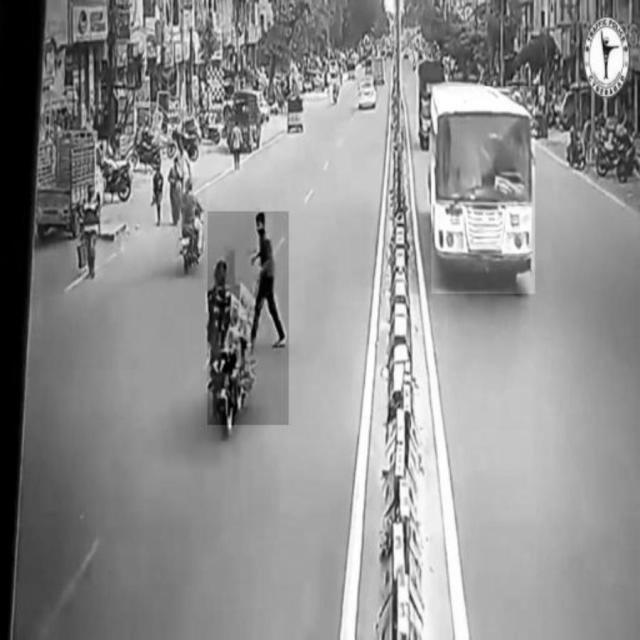accident: (208, 211, 289, 425)
person: (82, 180, 104, 278)
vehicle: (432, 87, 535, 294), (177, 178, 207, 279)
